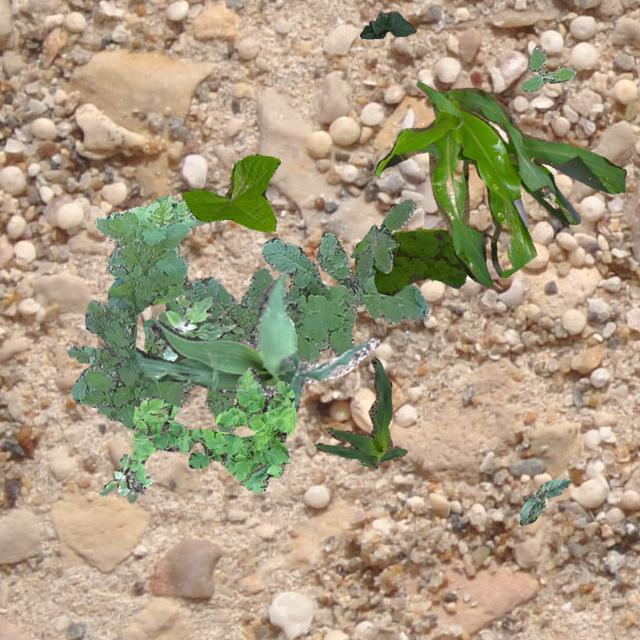crop: (373, 80, 624, 286), (134, 274, 378, 412), (314, 357, 406, 468), (182, 154, 280, 230), (518, 478, 570, 524), (358, 10, 414, 38)
weed: (142, 232, 428, 432), (66, 194, 210, 428), (128, 366, 294, 492), (354, 228, 468, 294), (348, 198, 414, 284), (158, 294, 242, 360), (98, 452, 152, 502), (520, 42, 576, 90)
